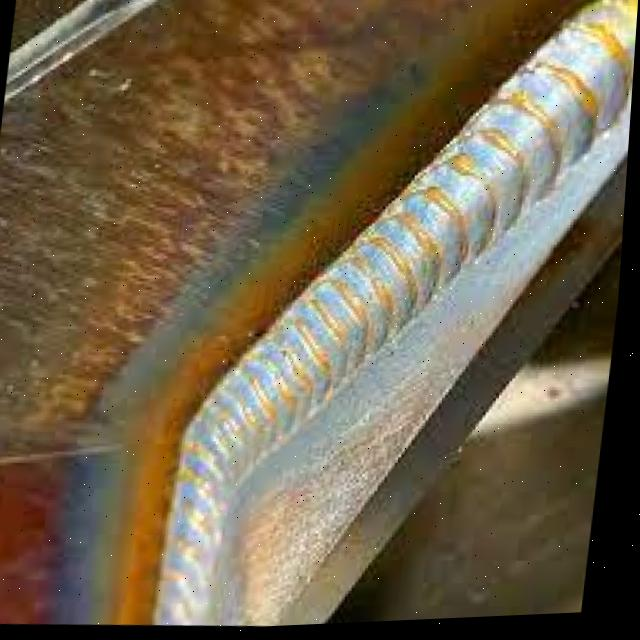Dry: (116, 0, 640, 635)
